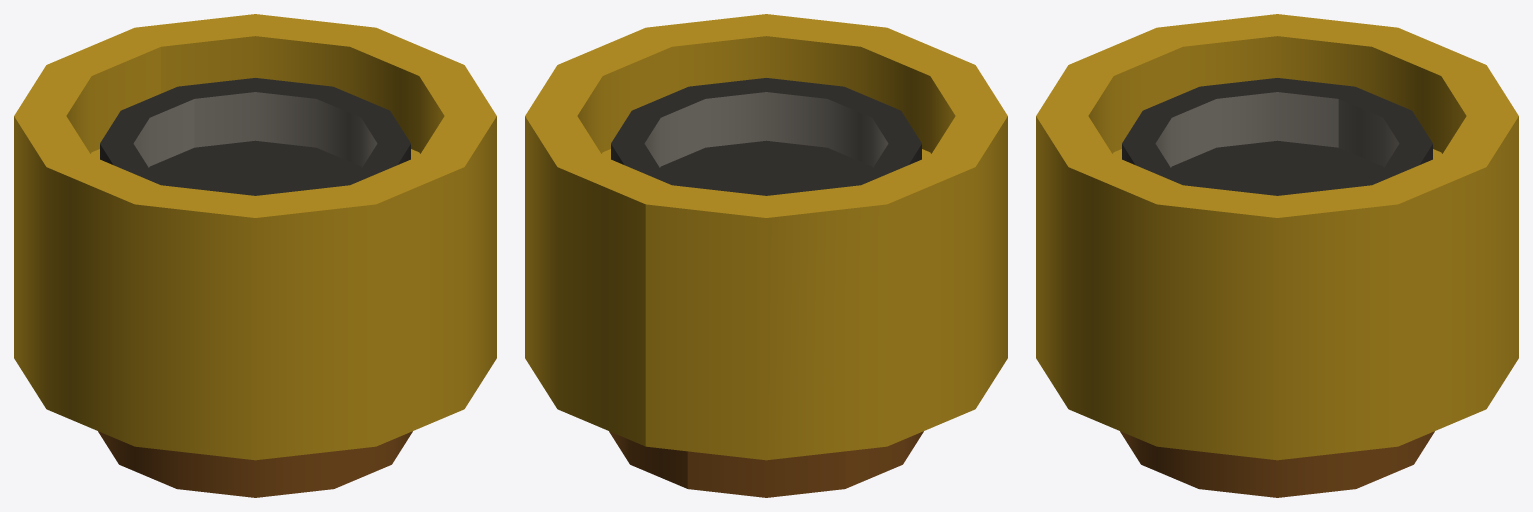
File: MangueiraTopo.fbx
3 renders of one model, left to right at view 1: azimuth 30°, elevation 25°; view 2: azimuth 150°, elevation 25°; view 3: azimuth 270°, elevation 25°, orthographic.
Visible parts, largest first — view 1: Circle; view 2: Circle; view 3: Circle.
Boxes of the visible parts, box(x1,y1,x2,y2) form: Circle: box(14, 14, 496, 497); Circle: box(525, 14, 1007, 497); Circle: box(1036, 14, 1518, 497).
Bounding box in the file's own units: 356 × 257 × 356.
